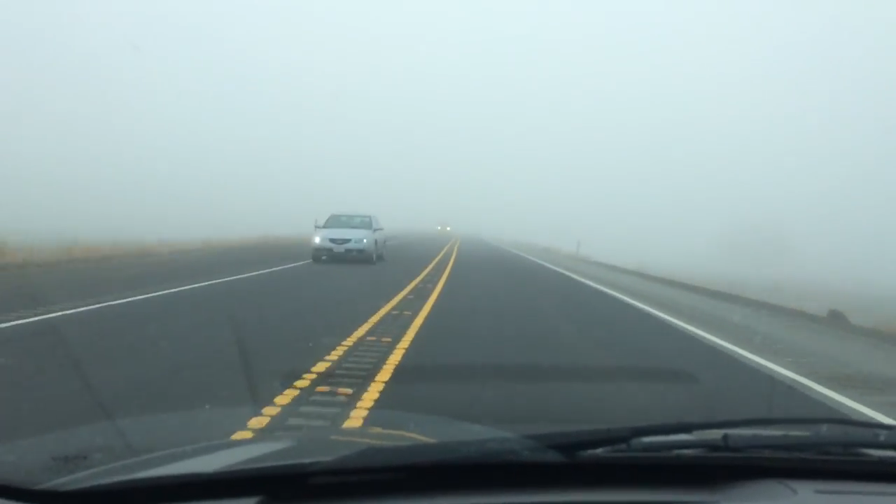car: (310, 212, 388, 263), (435, 223, 453, 237)
